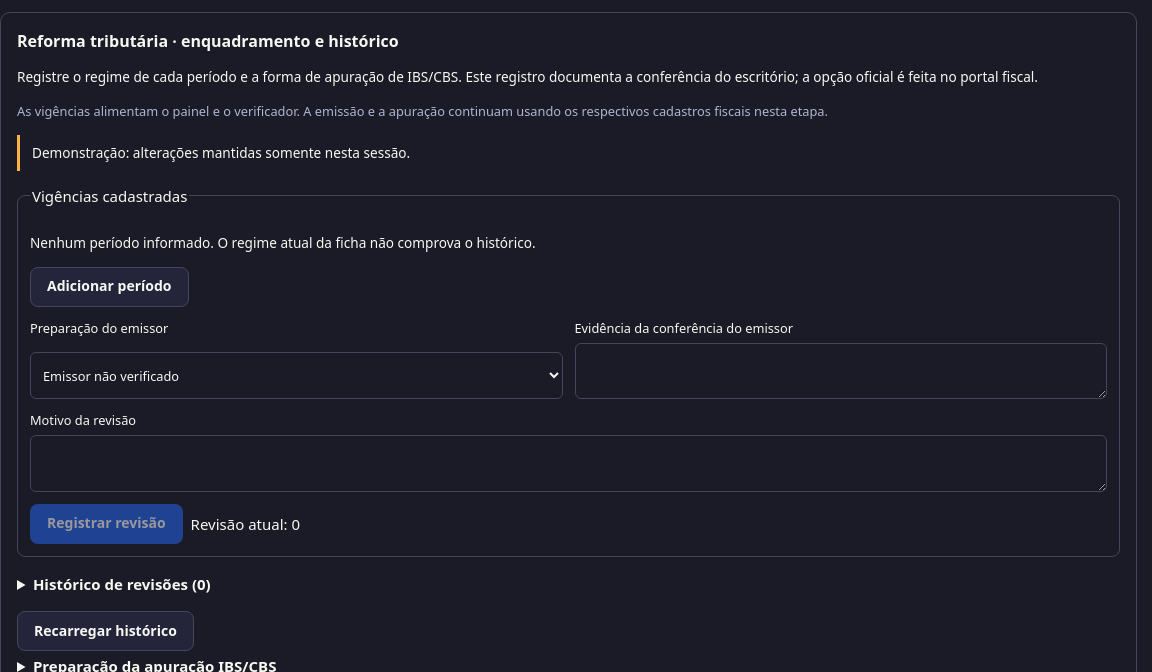
Test: salva revisão, mostra histórico e mantém dados no mock entre telas
The width and height of the screenshot is (1152, 672).
expect the text "Nenhum período informado. O regime atual da ficha não comprova o histórico." is shown: met, box [30,233,536,252]
Click the button "Adicionar período": (109, 287) [30,267,188,307]
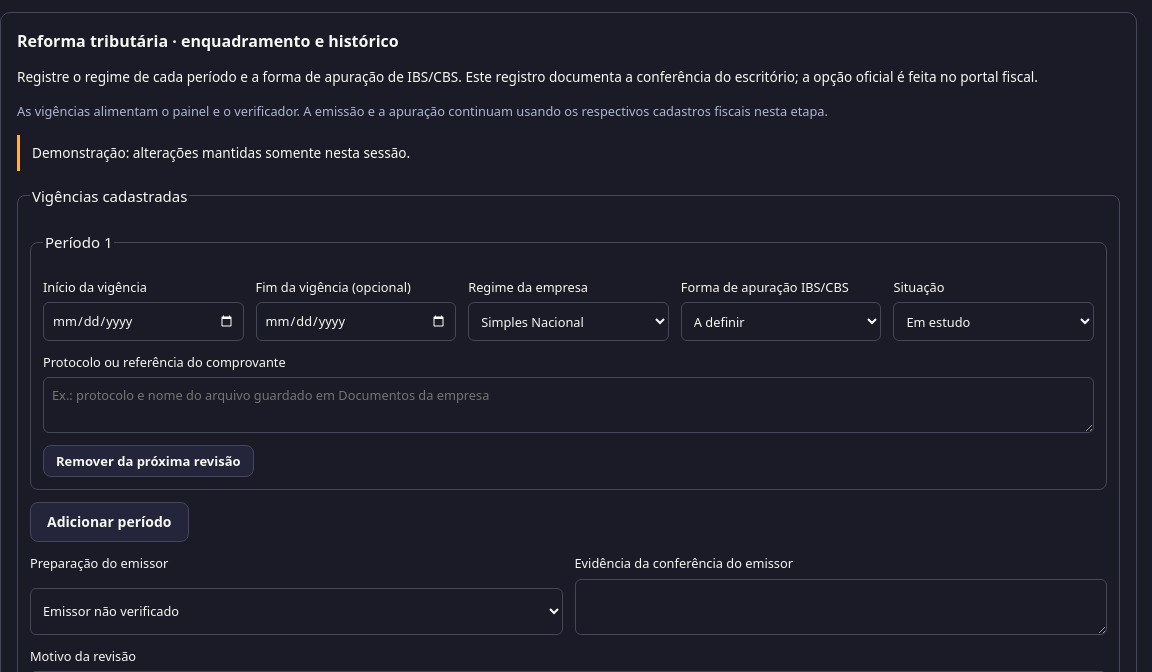
In the date field labelled "Início da vigência": (143, 321) [43,302,244,341], type "2027-01-01"
(page scrolled)
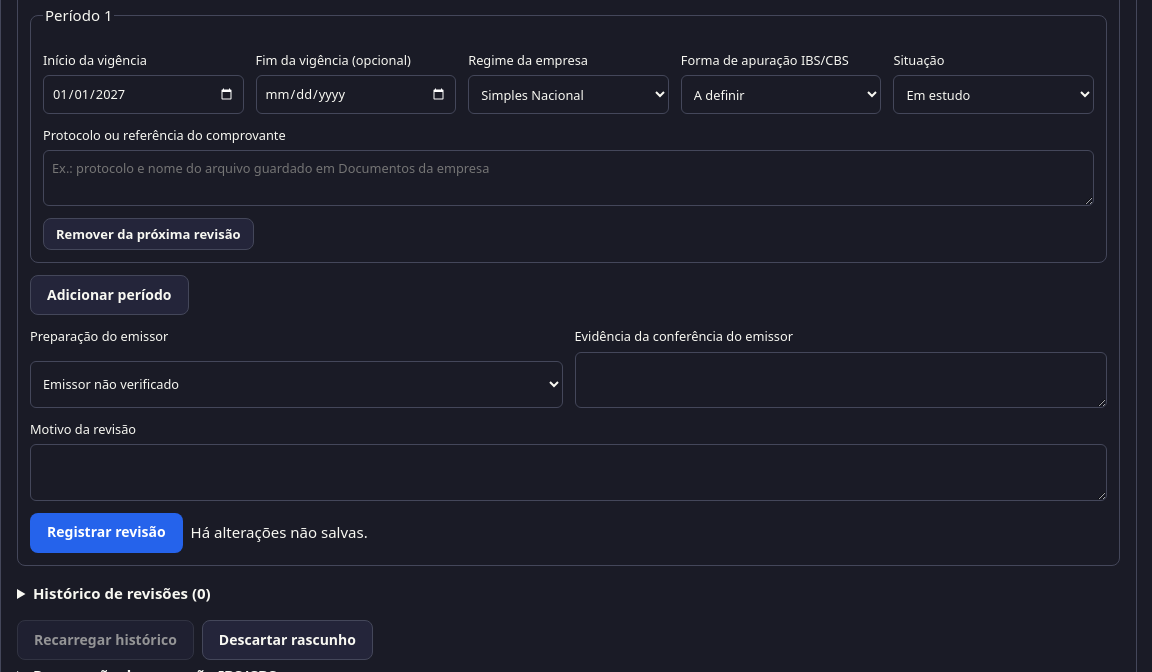
In the text box labelled "Motivo da revisão": (568, 472) [30,444,1107,501], type "Escolha em estudo"
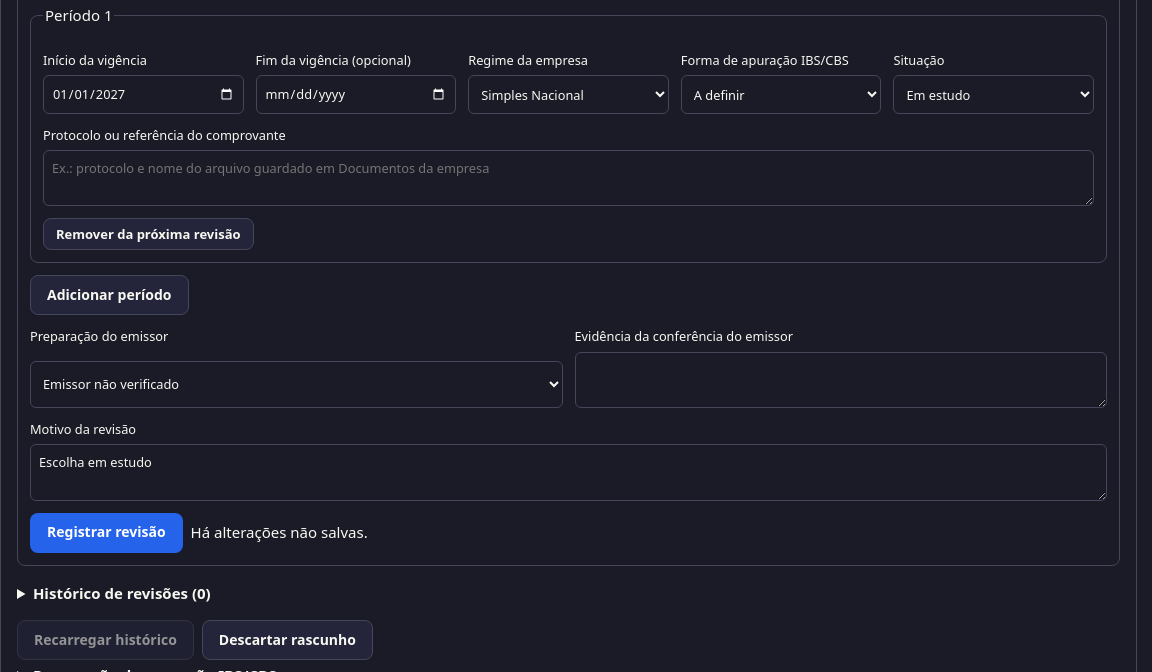
Click the button "Registrar revisão": (106, 533) [30,513,183,553]
(page scrolled)
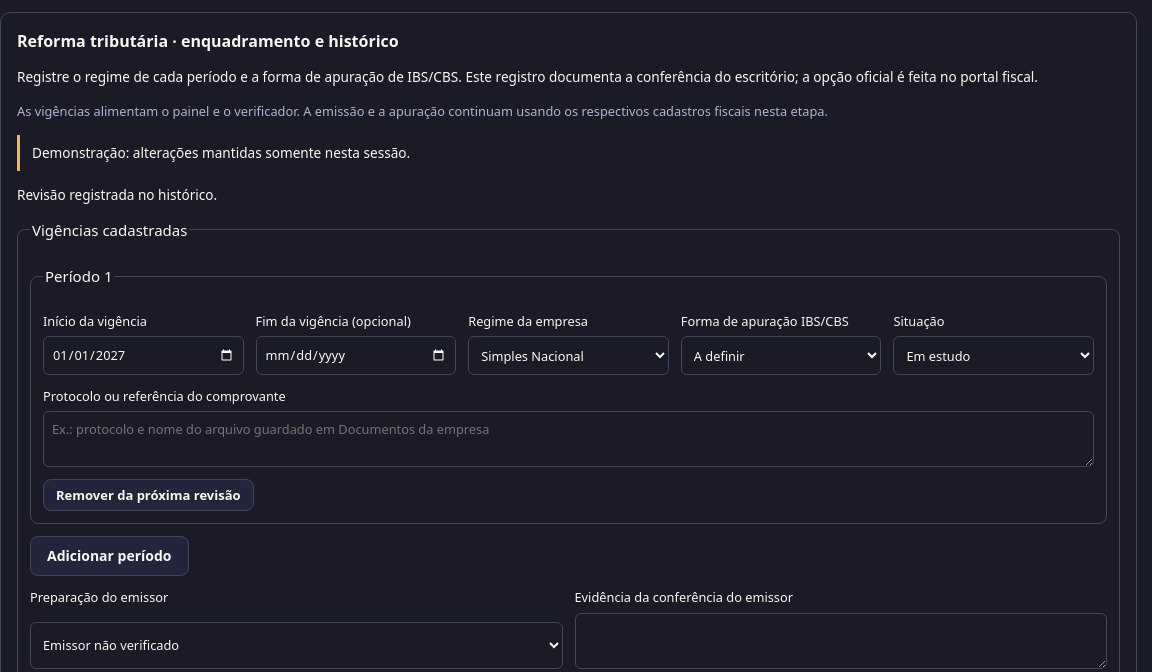
expect the text "Revisão registrada no histórico." is shown: met, box [17,184,217,204]
